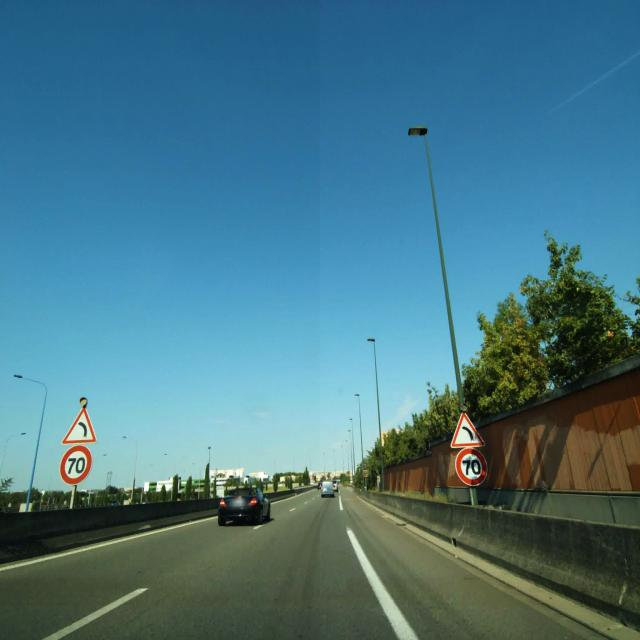car: (217, 485, 271, 526), (320, 482, 336, 497)
